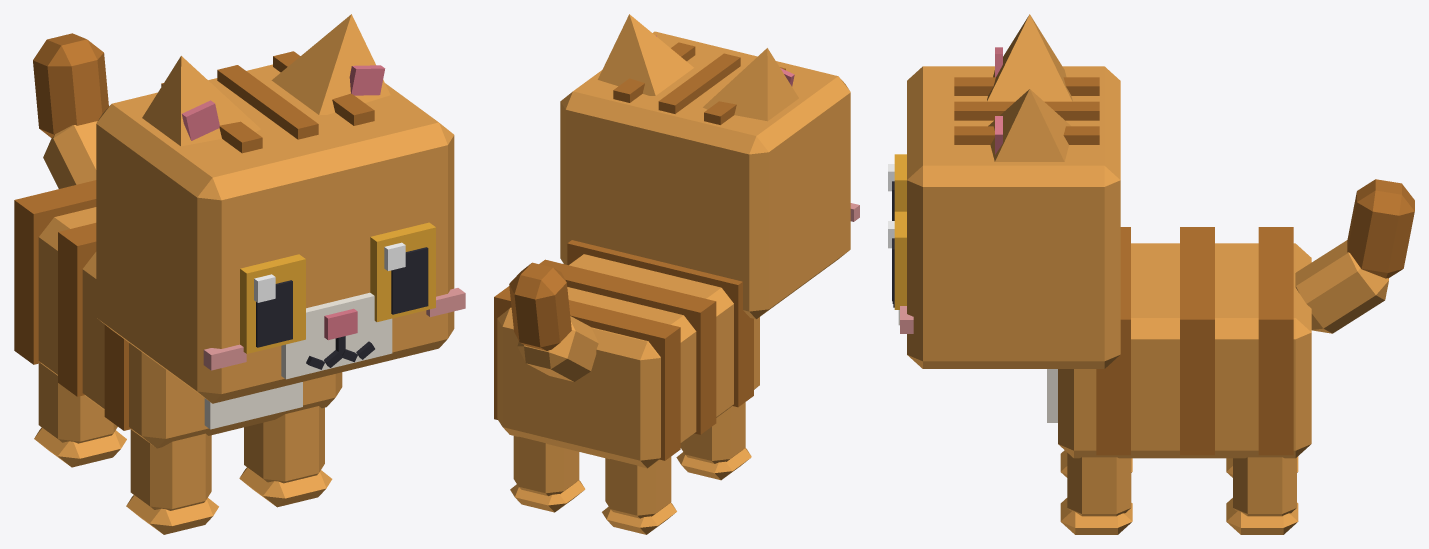
File: CatCafe_Cat_Tabby.glb
The picture shows the model from 3 angles, left to right: view 1: azimuth 30°, elevation 25°; view 2: azimuth 150°, elevation 25°; view 3: azimuth 270°, elevation 25°; orthographic projection. The views are drawn at different scales.
Visible parts, largest first — view 1: CatCafe_Cat_Tabby_Head, CatCafe_Cat_Tabby_Body, CatCafe_Cat_Tabby_Tail, CatCafe_Cat_Tabby_LegF2, CatCafe_Cat_Tabby_LegF1, CatCafe_Cat_Tabby_EarL, CatCafe_Cat_Tabby_Eye2, CatCafe_Cat_Tabby_Eye1, CatCafe_Cat_Tabby_LegB2, CatCafe_Cat_Tabby_EarR; view 2: CatCafe_Cat_Tabby_Head, CatCafe_Cat_Tabby_Body, CatCafe_Cat_Tabby_Tail, CatCafe_Cat_Tabby_LegB2, CatCafe_Cat_Tabby_LegB1, CatCafe_Cat_Tabby_EarL, CatCafe_Cat_Tabby_EarR, CatCafe_Cat_Tabby_LegF2; view 3: CatCafe_Cat_Tabby_Head, CatCafe_Cat_Tabby_Body, CatCafe_Cat_Tabby_Tail, CatCafe_Cat_Tabby_LegF1, CatCafe_Cat_Tabby_LegB1, CatCafe_Cat_Tabby_EarR, CatCafe_Cat_Tabby_EarL, CatCafe_Cat_Tabby_Eye1, CatCafe_Cat_Tabby_Eye2.
Part boxes in pixels (<box>): CatCafe_Cat_Tabby_Head: <box>96,51,465,403</box>; CatCafe_Cat_Tabby_Body: <box>14,180,342,448</box>; CatCafe_Cat_Tabby_Tail: <box>33,33,108,188</box>; CatCafe_Cat_Tabby_LegF2: <box>126,429,218,534</box>; CatCafe_Cat_Tabby_LegF1: <box>239,406,332,507</box>; CatCafe_Cat_Tabby_EarL: <box>271,14,390,115</box>; CatCafe_Cat_Tabby_Eye2: <box>240,254,305,353</box>; CatCafe_Cat_Tabby_Eye1: <box>370,222,435,321</box>; CatCafe_Cat_Tabby_LegB2: <box>34,363,126,467</box>; CatCafe_Cat_Tabby_EarR: <box>142,56,260,146</box>; CatCafe_Cat_Tabby_Head: <box>560,31,859,319</box>; CatCafe_Cat_Tabby_Body: <box>494,240,759,468</box>; CatCafe_Cat_Tabby_Tail: <box>509,262,598,381</box>; CatCafe_Cat_Tabby_LegB2: <box>602,456,676,534</box>; CatCafe_Cat_Tabby_LegB1: <box>510,436,585,512</box>; CatCafe_Cat_Tabby_EarL: <box>597,14,693,95</box>; CatCafe_Cat_Tabby_EarR: <box>703,48,798,121</box>; CatCafe_Cat_Tabby_LegF2: <box>676,402,751,480</box>; CatCafe_Cat_Tabby_Head: <box>892,66,1120,368</box>; CatCafe_Cat_Tabby_Body: <box>1047,227,1311,458</box>; CatCafe_Cat_Tabby_Tail: <box>1295,179,1414,333</box>; CatCafe_Cat_Tabby_LegF1: <box>1060,453,1132,534</box>; CatCafe_Cat_Tabby_LegB1: <box>1226,457,1298,534</box>; CatCafe_Cat_Tabby_EarR: <box>987,14,1072,101</box>; CatCafe_Cat_Tabby_EarL: <box>988,89,1070,161</box>; CatCafe_Cat_Tabby_Eye1: <box>888,211,906,309</box>; CatCafe_Cat_Tabby_Eye2: <box>888,154,906,220</box>.
Size of the model in its own units: 1 by 1.86 by 1.97.
Materials: 1 (1 with a texture image).
